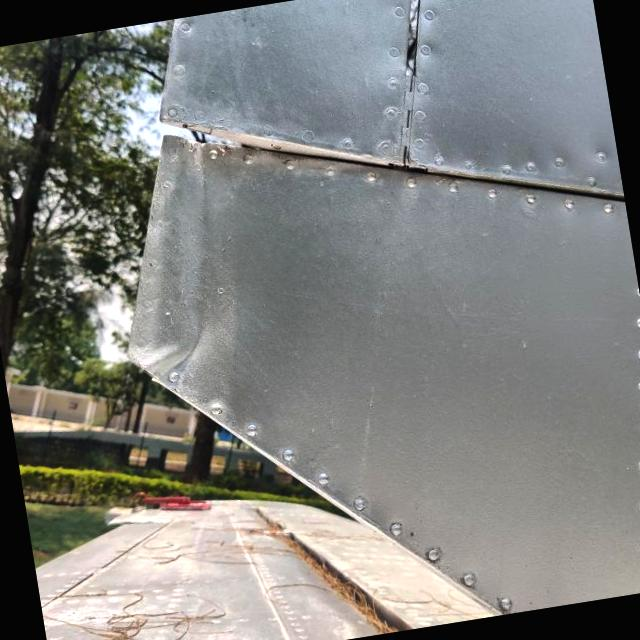dent: (123, 294, 215, 400)
